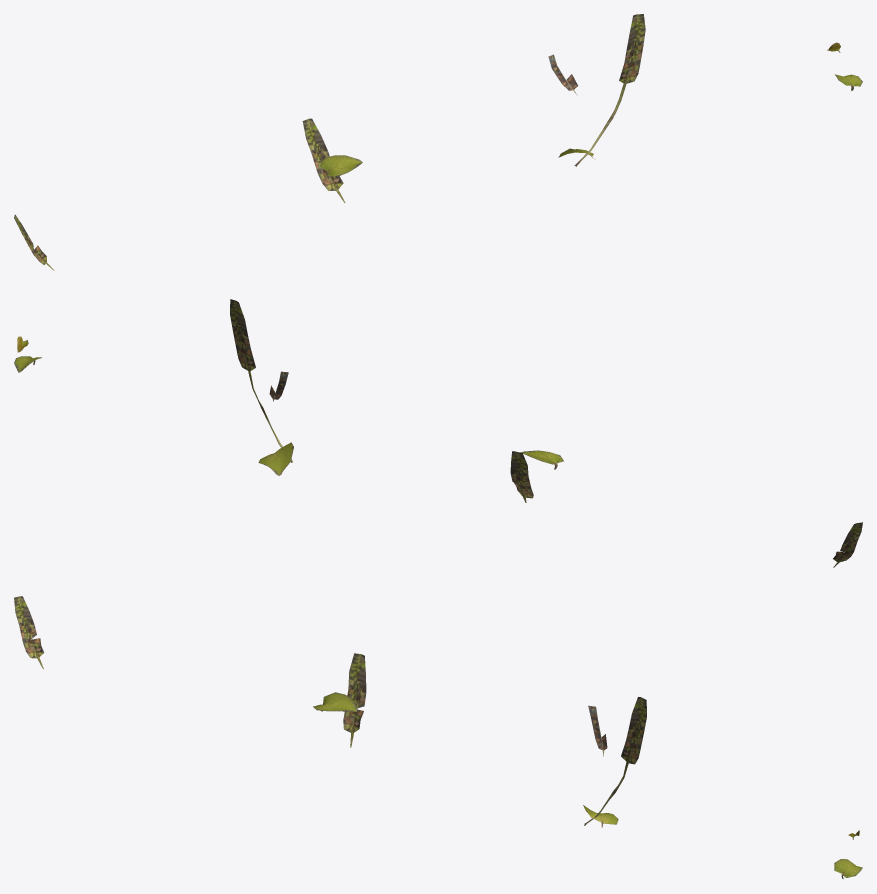
File: shrub_03.glb
3 renders of one model, top to bottom at view 1: azimuth 30°, elevation 25°; view 2: azimuth 150°, elevation 25°; view 3: azimuth 330°, elevation 25°, orthographic. The views are drawn at different scales.
Visible parts, largest first — view 1: shrub_03_a; view 2: shrub_03_a; view 3: shrub_03_a.
Boxes of the visible parts, x1=… form: shrub_03_a: x1=14, y1=14, x2=862, y2=270; shrub_03_a: x1=14, y1=299, x2=862, y2=567; shrub_03_a: x1=14, y1=596, x2=862, y2=879.
Bounding box in the file's own units: 1.32 × 0.2143 × 0.112.
1 material, 1 textured.
